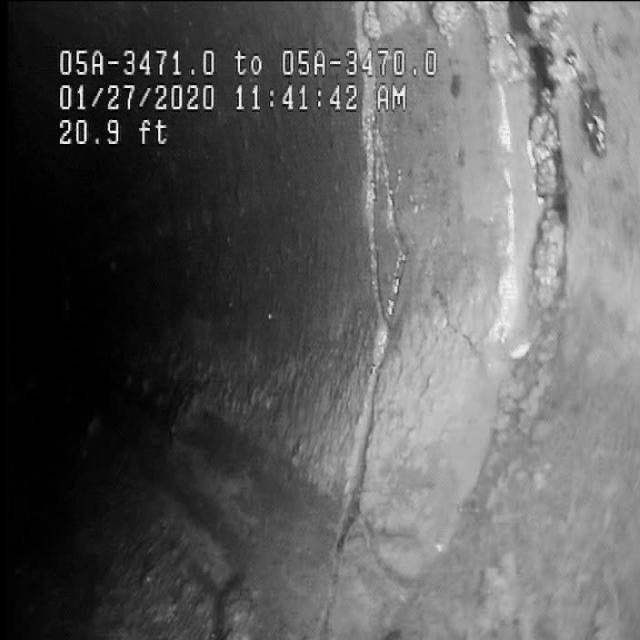Crack: (326, 196, 418, 610)
